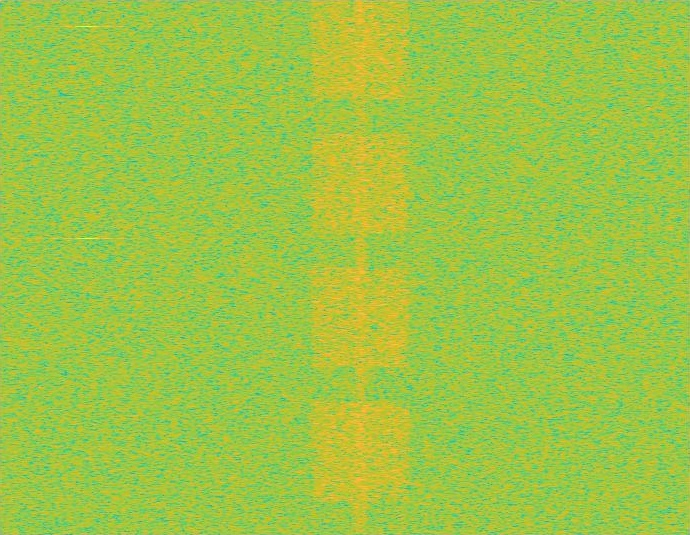5G: (309, 0, 412, 534)
DSSS: (354, 0, 368, 534)
Radar: (80, 0, 94, 534)
